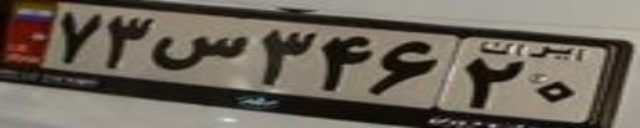0: (534, 80, 577, 103)
2: (460, 56, 522, 110)
3: (261, 29, 314, 87), (103, 14, 150, 71)
4: (320, 34, 372, 94)
6: (377, 40, 438, 98)
7: (61, 10, 101, 67)
sin: (154, 34, 247, 71)
